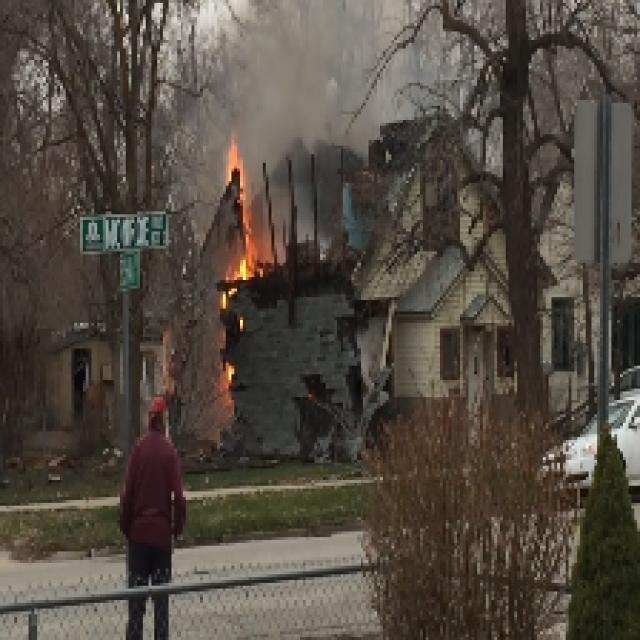Fire: (226, 139, 241, 181), (236, 262, 266, 276)
Smoke: (234, 21, 387, 133)
